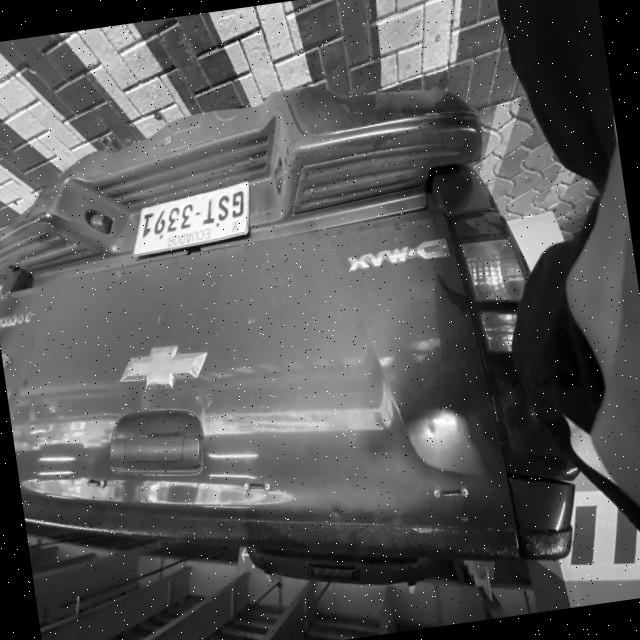Placa: (133, 182, 248, 254)
